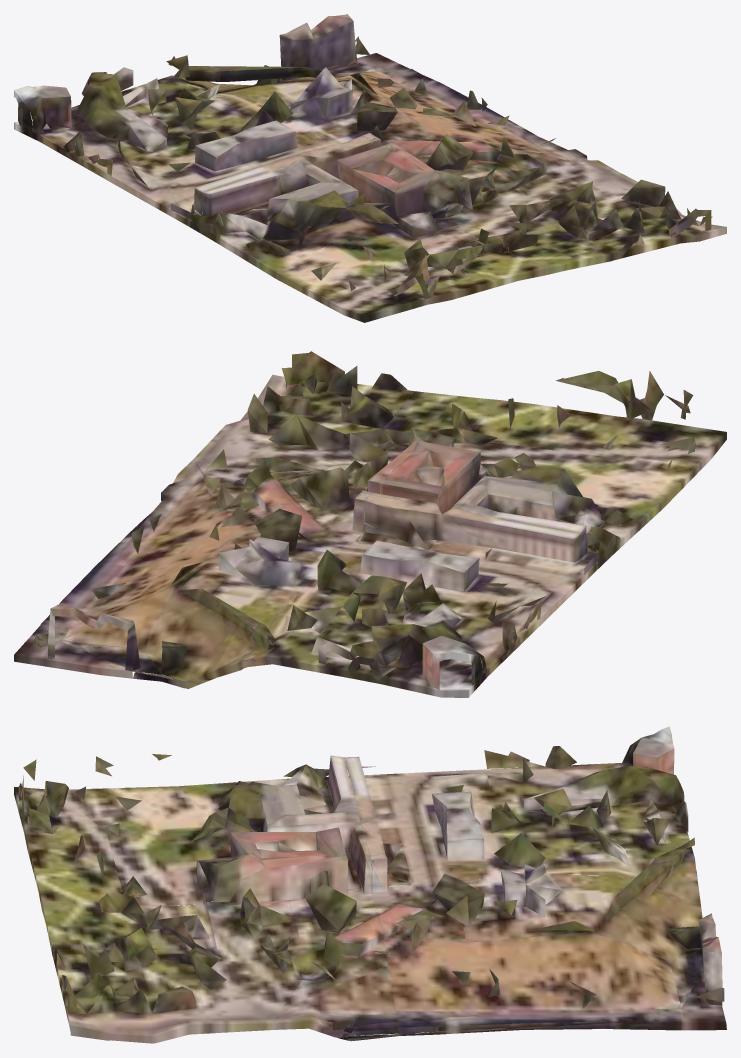
3 renders of one model, top to bottom at view 1: azimuth 30°, elevation 25°; view 2: azimuth 150°, elevation 25°; view 3: azimuth 270°, elevation 25°, orthographic. The views are drawn at different scales.
Visible parts, largest first — view 1: Mesh_0; view 2: Mesh_0; view 3: Mesh_0.
Part boxes in pixels (x1,y1,x2,y2): Mesh_0: (14, 14, 726, 322); Mesh_0: (14, 351, 726, 697); Mesh_0: (14, 726, 726, 1043).
Size of the model in its own units: 266 by 56.69 by 330.
1 material, 1 textured.
